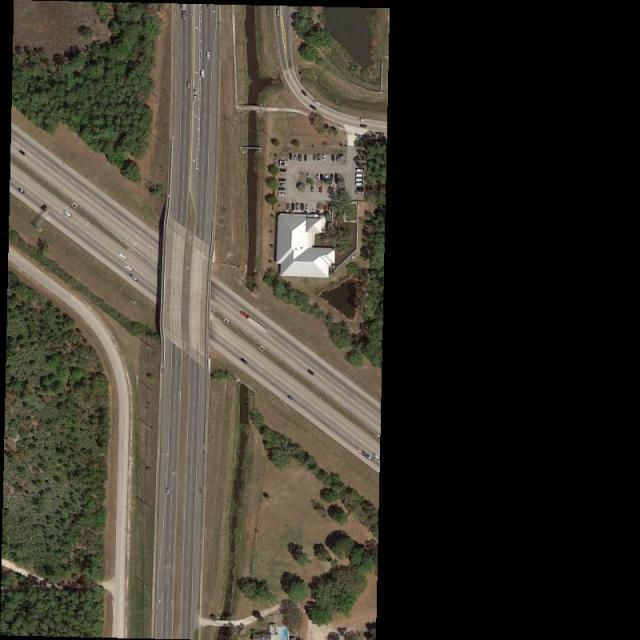vehicle: (239, 310, 268, 335), (125, 264, 134, 274), (118, 253, 128, 262), (129, 274, 139, 282), (307, 368, 315, 377), (64, 210, 73, 218), (18, 186, 26, 195), (314, 100, 323, 108), (286, 395, 296, 402), (181, 11, 187, 22), (240, 358, 249, 365), (355, 168, 365, 174), (18, 149, 26, 156), (328, 203, 333, 213), (355, 173, 365, 178), (325, 174, 330, 184), (310, 105, 317, 112), (201, 69, 206, 78), (315, 174, 320, 183), (355, 182, 366, 186), (302, 90, 308, 97), (332, 186, 338, 193), (305, 203, 309, 213), (286, 202, 290, 212), (186, 82, 191, 90), (320, 174, 325, 182), (336, 154, 341, 162), (331, 154, 336, 162), (322, 154, 327, 162), (330, 174, 334, 184), (206, 52, 210, 61), (306, 173, 310, 182), (166, 487, 170, 496), (356, 178, 365, 182), (323, 205, 328, 212), (310, 186, 315, 193), (301, 203, 305, 211), (296, 203, 300, 211), (194, 87, 198, 95), (357, 186, 365, 190), (318, 154, 322, 162), (313, 154, 317, 162), (304, 154, 308, 162), (298, 154, 302, 162), (278, 182, 286, 186), (355, 191, 365, 194), (374, 454, 379, 460), (319, 186, 323, 193), (291, 203, 295, 210), (279, 193, 286, 197), (279, 187, 286, 191), (279, 178, 286, 182), (361, 124, 368, 128), (358, 118, 365, 122), (280, 169, 286, 173), (277, 9, 280, 17), (294, 154, 297, 162), (290, 153, 293, 161)
